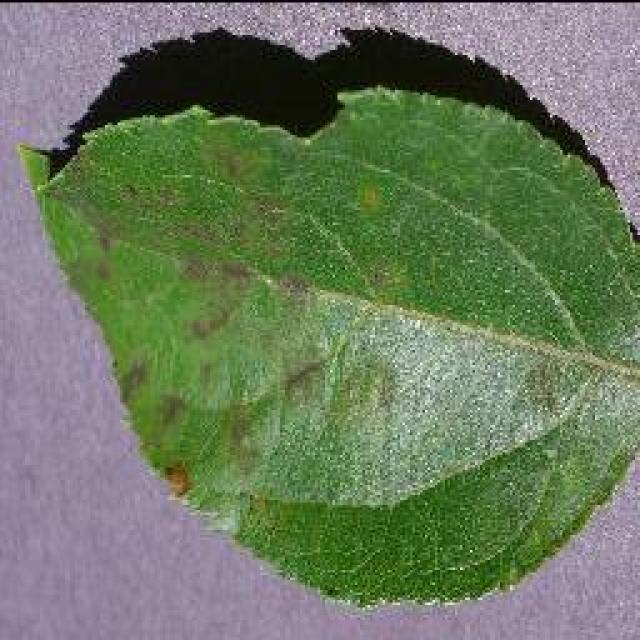apple scab disease: (15, 22, 637, 612)
